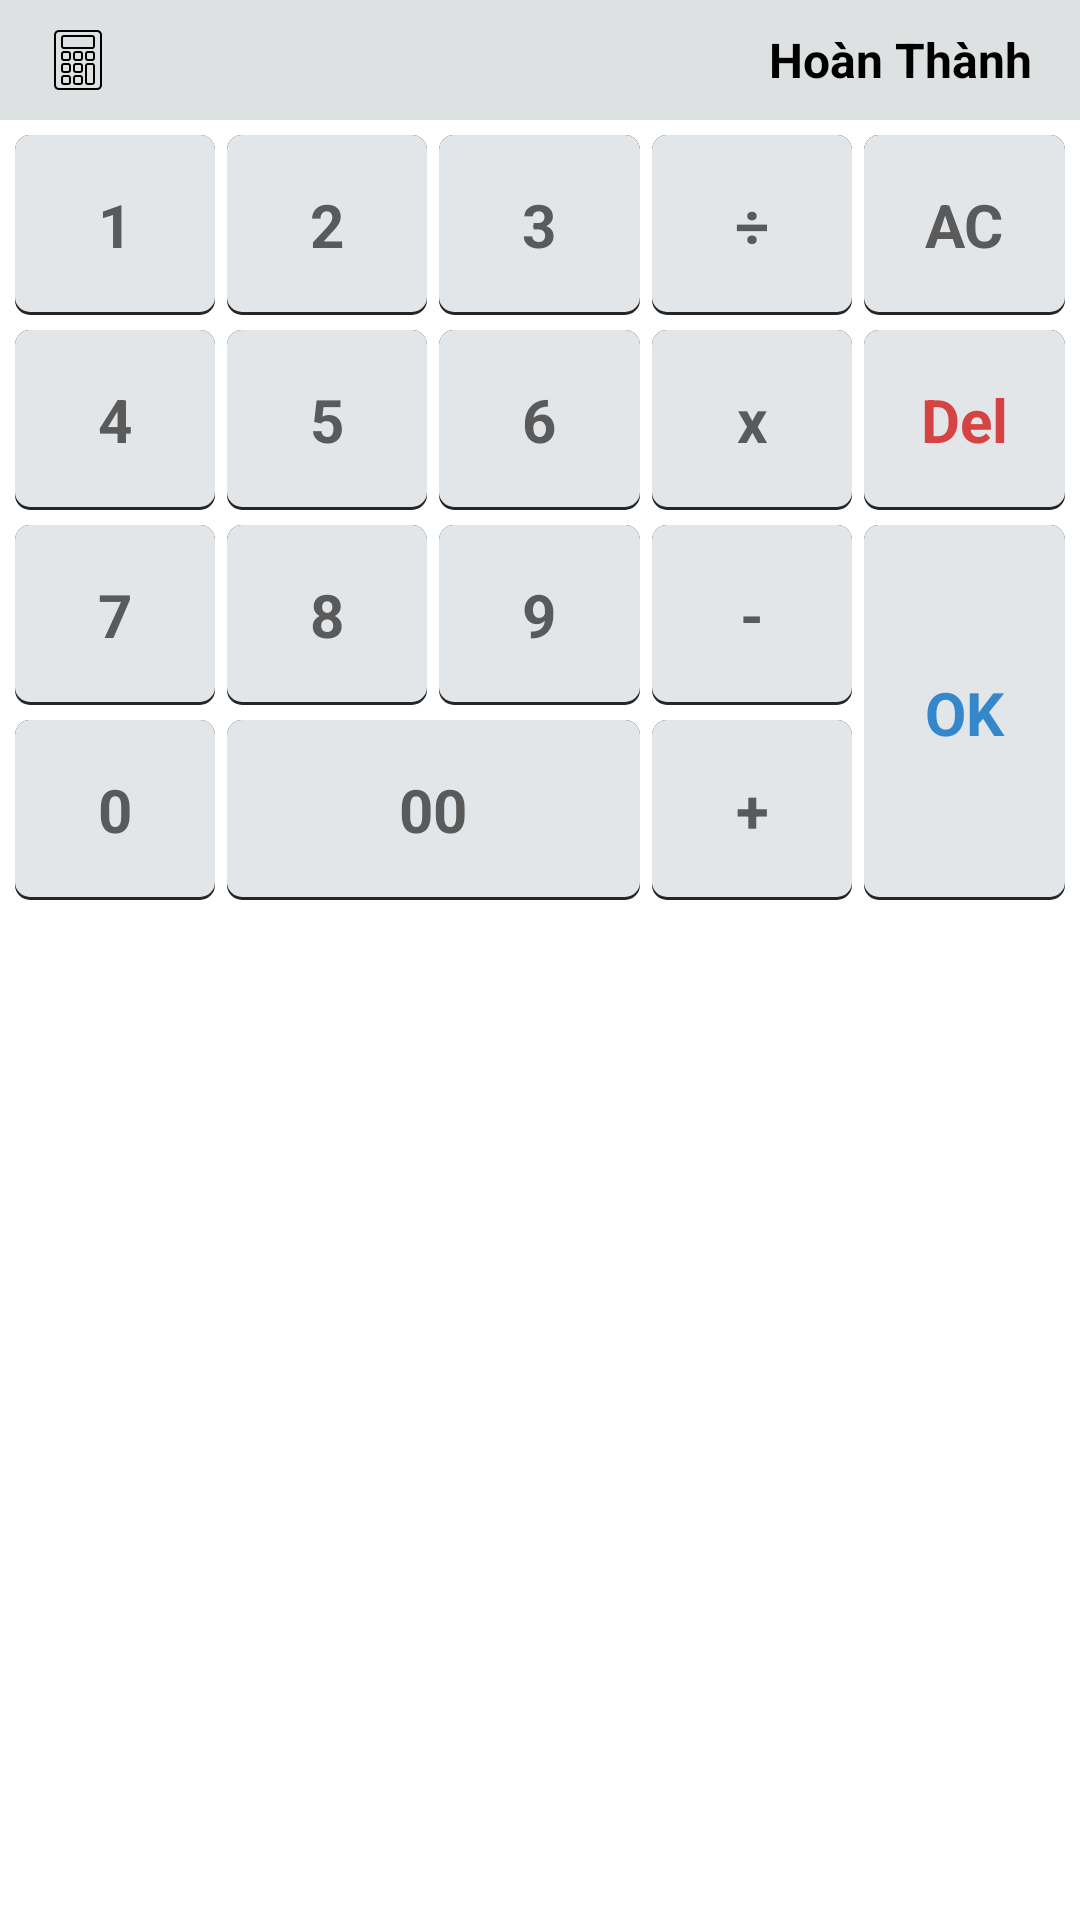

Named icons in this screenshot (1080px×1920px) and their centers, (x=x, y=y):
calculator: (x=78, y=60)
